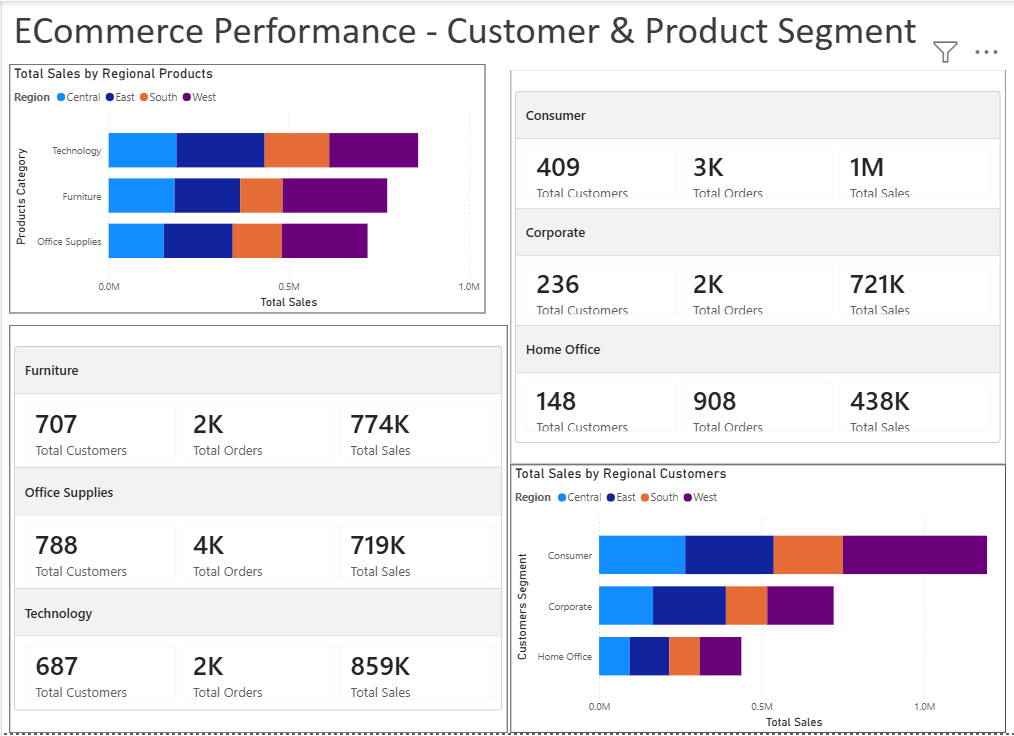

Layout of this report page (visuals, bound fields, positions):
{"tool":"powerbi","page":{"name":"Customer & Product","canvas":[1250,900],"ordinal":1},"visuals":[{"type":"textbox","box":[9.4,0,1224.6,85],"z":0},{"type":"barChart","title":"Total Sales by Regional Products","fields":{"Category":["Sales.Products.Category"],"Series":["Customers.Region"],"Y":["Sales.Total Sales"]},"box":[9.2,77.5,585,306.4],"z":1},{"type":"cardVisual","fields":{"Data":["Sales.Total Customers","Sales.Total Orders","Sales.Total Sales"],"Rows":["Customers.Segment"]},"box":[625.6,84.9,609,485.4],"z":2},{"type":"cardVisual","fields":{"Data":["Sales.Total Customers","Sales.Total Orders","Sales.Total Sales"],"Rows":["Sales.Products.Category"]},"box":[9.2,398.6,612.7,502],"z":3},{"type":"barChart","title":"Total Sales by Regional Customers","fields":{"Category":["Customers.Segment"],"Series":["Customers.Region"],"Y":["Sales.Total Sales"]},"box":[626,570,609,330],"z":4}]}

Visuals, with their boxes in screenshot pixels (x1, y1, x2, y2), scaled from the page's 1250x900 canvas onto the 1014x736 screenshot:
textbox: region(8, 0, 1001, 70)
"Total Sales by Regional Products" barChart: region(7, 63, 482, 314)
cardVisual - Sales.Total Customers x Sales.Total Orders: region(507, 69, 1002, 466)
cardVisual - Sales.Total Customers x Sales.Total Orders: region(7, 326, 504, 735)
"Total Sales by Regional Customers" barChart: region(508, 466, 1002, 735)
